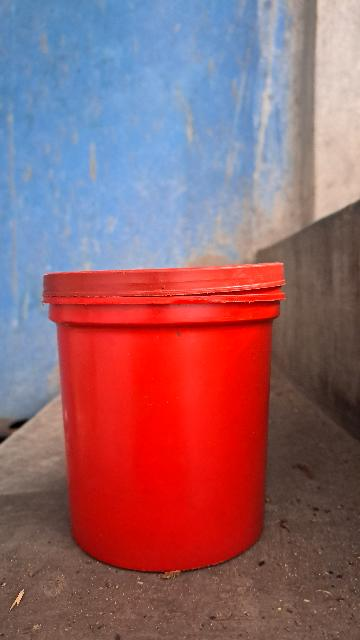hardplastic: (26, 238, 322, 593)
